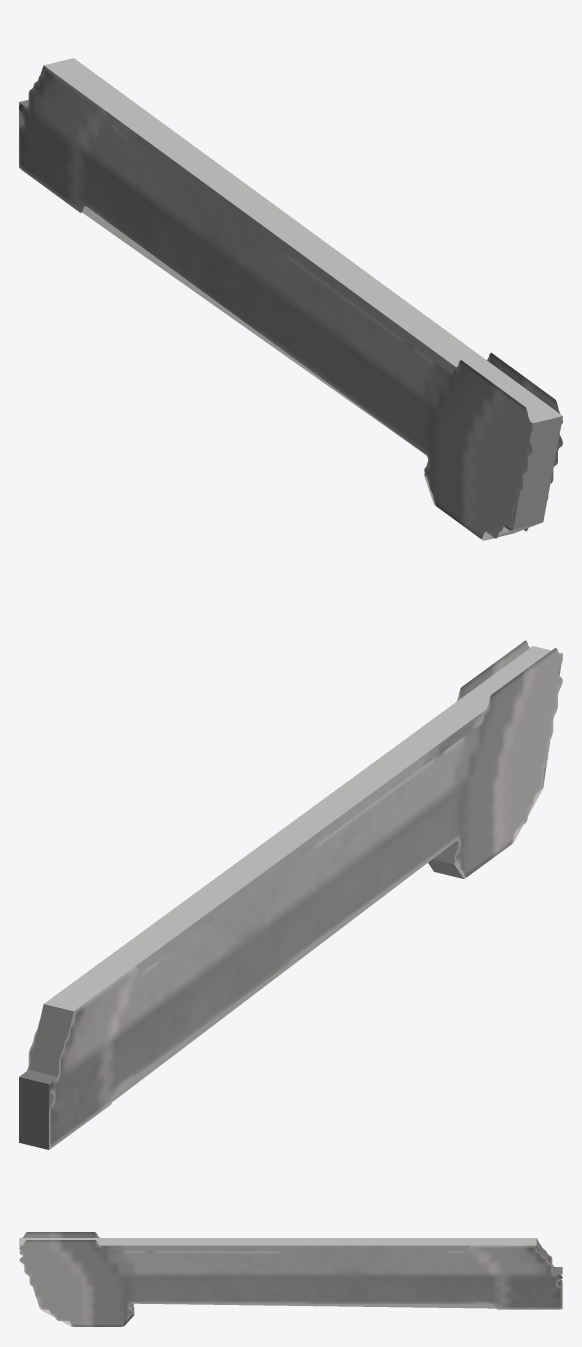
File: pz_native_fixtures_railings_01_131_frame.obj
The picture shows the model from 3 angles, top to bottom: view 1: azimuth 30°, elevation 25°; view 2: azimuth 150°, elevation 25°; view 3: azimuth 270°, elevation 25°; orthographic projection. The views are drawn at different scales.
Parts seen in each view (by area): view 1: pz_native_fixtures_railings_01_131_frame; view 2: pz_native_fixtures_railings_01_131_frame; view 3: pz_native_fixtures_railings_01_131_frame.
Boxes of the visible parts, bbox=[...] form: pz_native_fixtures_railings_01_131_frame: bbox=[19, 58, 562, 540]; pz_native_fixtures_railings_01_131_frame: bbox=[19, 640, 562, 1149]; pz_native_fixtures_railings_01_131_frame: bbox=[19, 1232, 562, 1326].
Bounding box in the file's own units: 0.045 × 0.2656 × 1.35.
1 material, 1 textured.
